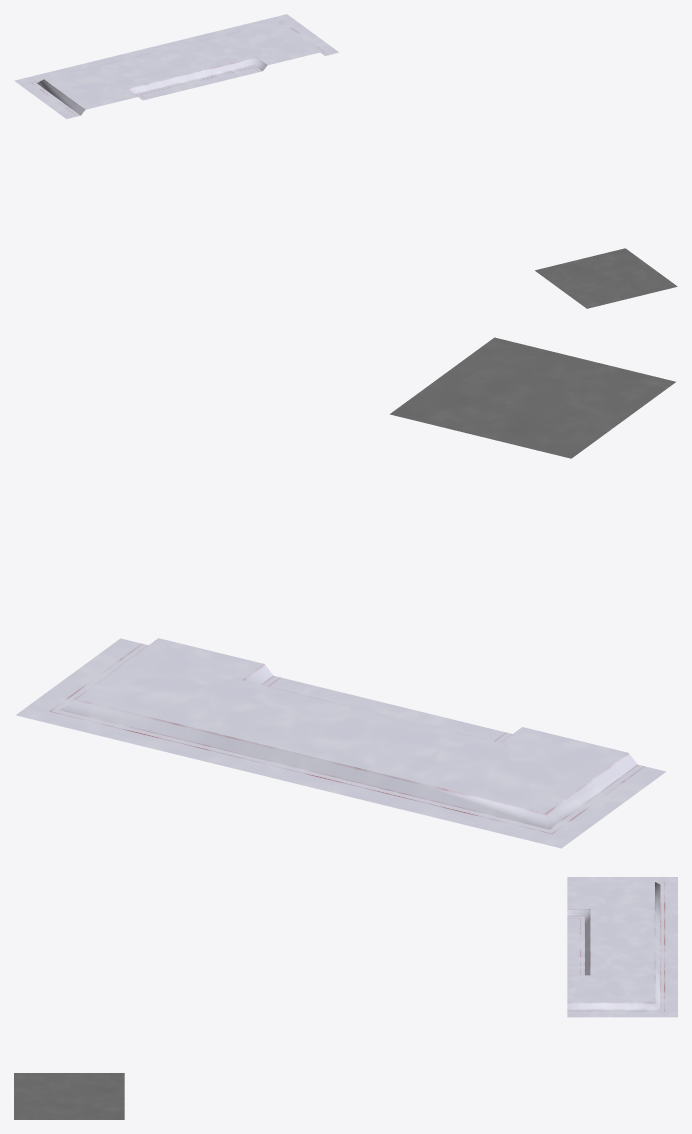
The model's file is plain_floor.glb.
3 renders of one model, top to bottom at view 1: azimuth 30°, elevation 25°; view 2: azimuth 150°, elevation 25°; view 3: azimuth 270°, elevation 25°, orthographic. The views are drawn at different scales.
Visible parts, largest first — view 1: Room_2_LowCeiling.001, Room_3.001, Room_1_LowCeiling.001, Room_3_LowCeiling.001; view 2: Room_1_LowCeiling.001, Room_3_LowCeiling.001, Room_2_LowCeiling.001, Room_3.001; view 3: Room_3_LowCeiling.001, Room_2_LowCeiling.001, Room_3.001, Room_1_LowCeiling.001.
Part boxes in pixels (x1,y1,x2,y2): Room_2_LowCeiling.001: [105, 36, 248, 96]; Room_3.001: [535, 248, 677, 308]; Room_1_LowCeiling.001: [14, 58, 156, 118]; Room_3_LowCeiling.001: [196, 14, 338, 74]; Room_1_LowCeiling.001: [380, 727, 665, 848]; Room_3_LowCeiling.001: [16, 638, 302, 759]; Room_2_LowCeiling.001: [198, 683, 484, 803]; Room_3.001: [390, 337, 675, 458]; Room_3_LowCeiling.001: [567, 965, 677, 1017]; Room_2_LowCeiling.001: [567, 919, 677, 970]; Room_3.001: [14, 1073, 124, 1119]; Room_1_LowCeiling.001: [567, 877, 677, 923].
Size of the model in its own units: 22.99 by 4.1 by 36.
2 materials, 2 textured.
